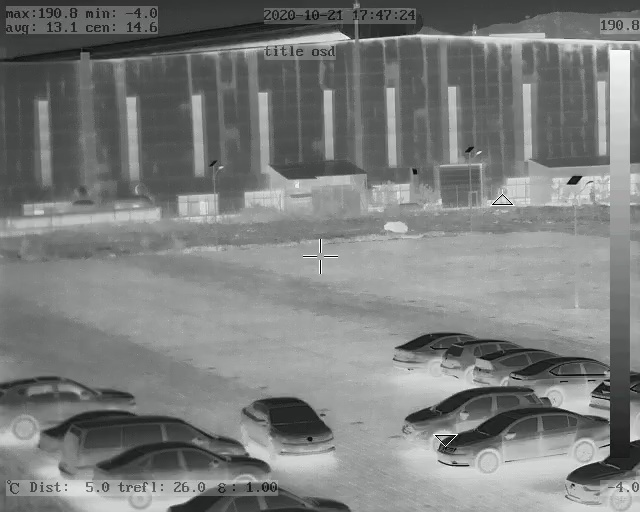vehicle: (45, 401, 233, 474), (442, 408, 612, 471), (98, 450, 257, 505), (4, 377, 134, 439), (406, 385, 527, 443), (241, 394, 335, 456), (160, 484, 361, 512), (507, 354, 615, 405), (567, 441, 639, 508), (393, 323, 480, 371), (471, 346, 547, 383), (441, 335, 507, 376)
